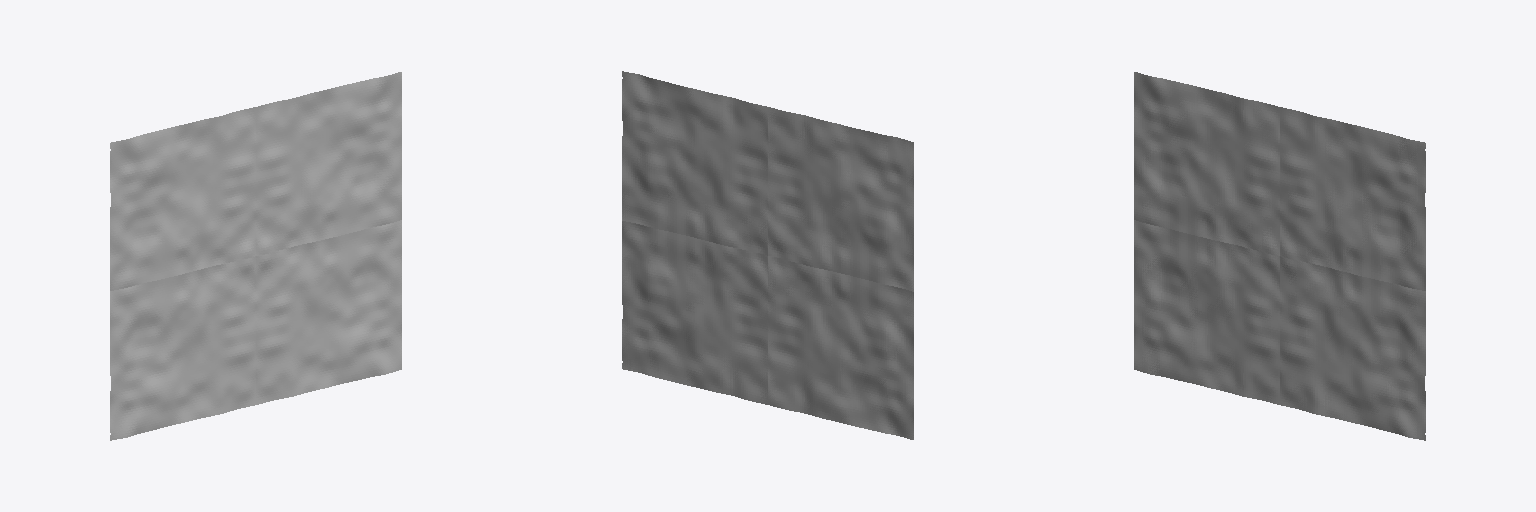
Rendered from grass.obj.
The picture shows the model from 3 angles: view 1: azimuth 30°, elevation 25°; view 2: azimuth 150°, elevation 25°; view 3: azimuth 330°, elevation 25°; orthographic projection.
Visible parts, largest first — view 1: 1; view 2: 1; view 3: 1.
Part boxes in pixels (x1,y1,x2,y2): 1: (110, 72, 401, 440); 1: (622, 71, 913, 439); 1: (1134, 72, 1425, 440).
Bounding box in the file's own units: 567 × 554 × 7.27.